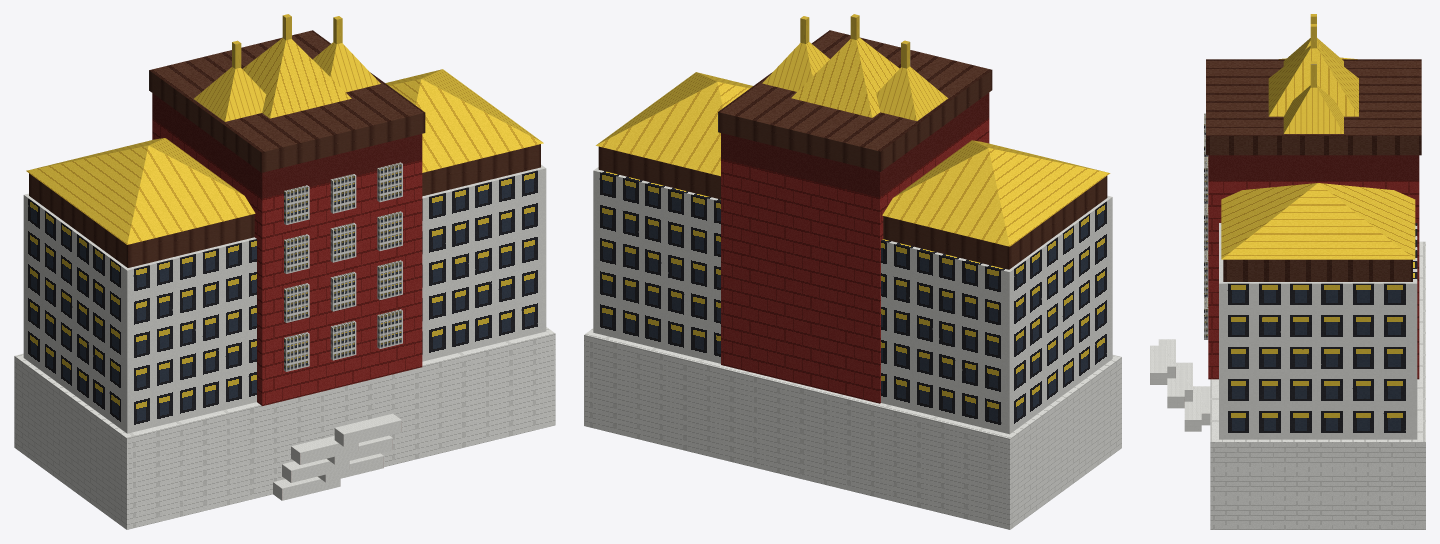
File: landmark_potala_palace.glb
3 views of the same model, side by side, from view 1: azimuth 30°, elevation 25°; view 2: azimuth 150°, elevation 25°; view 3: azimuth 270°, elevation 25° (orthographic). The views are drawn at different scales.
Visible parts, largest first — view 1: Landmark_Potala_Palace; view 2: Landmark_Potala_Palace; view 3: Landmark_Potala_Palace.
Boxes of the visible parts, x1,y1,x2,y2 form: Landmark_Potala_Palace: [14, 14, 555, 529]; Landmark_Potala_Palace: [584, 14, 1121, 529]; Landmark_Potala_Palace: [1150, 14, 1425, 529].
Size of the model in its own units: 22 by 20.7 by 12.8.
Materials: 1 (1 with a texture image).
